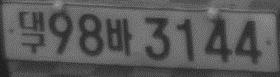1: (175, 18, 200, 61)
3: (144, 16, 171, 60)
4: (204, 19, 233, 63), (234, 20, 263, 64)
8: (77, 12, 104, 56)
9: (48, 10, 73, 55)
대구_V: (19, 10, 45, 54)
바: (105, 17, 132, 55)
